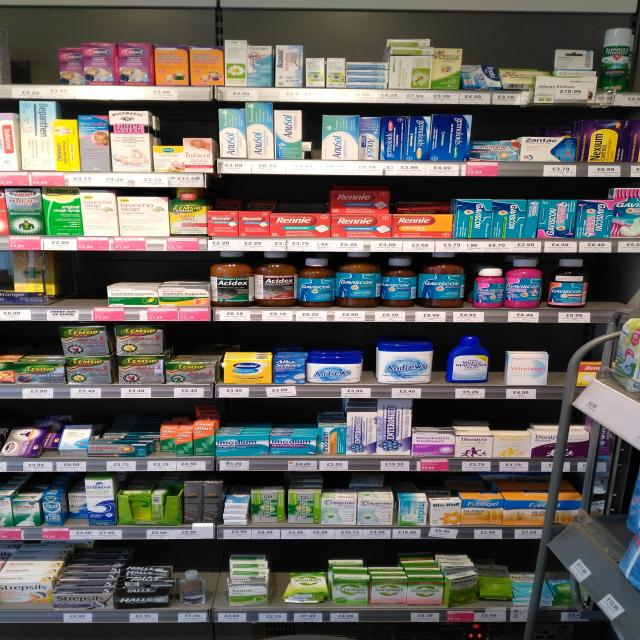unorganised: (479, 563, 570, 605), (4, 423, 89, 460), (499, 341, 553, 391), (375, 340, 436, 383), (251, 489, 320, 527), (445, 328, 491, 384), (284, 567, 329, 607), (58, 326, 113, 358), (443, 566, 476, 611), (539, 197, 575, 237), (333, 190, 391, 213), (86, 441, 157, 459), (176, 569, 210, 606), (389, 35, 434, 58), (57, 46, 83, 85), (554, 45, 592, 69), (64, 493, 87, 525), (579, 357, 602, 385), (159, 426, 175, 456), (302, 138, 320, 158)
